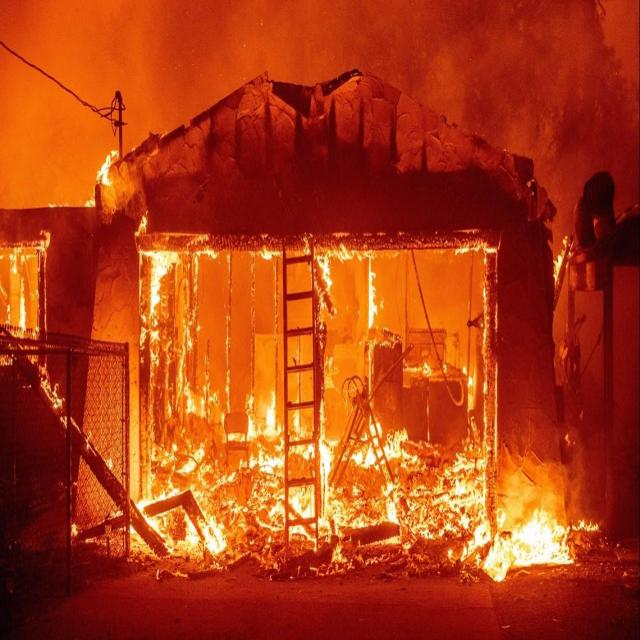Fire: (3, 143, 619, 574)
